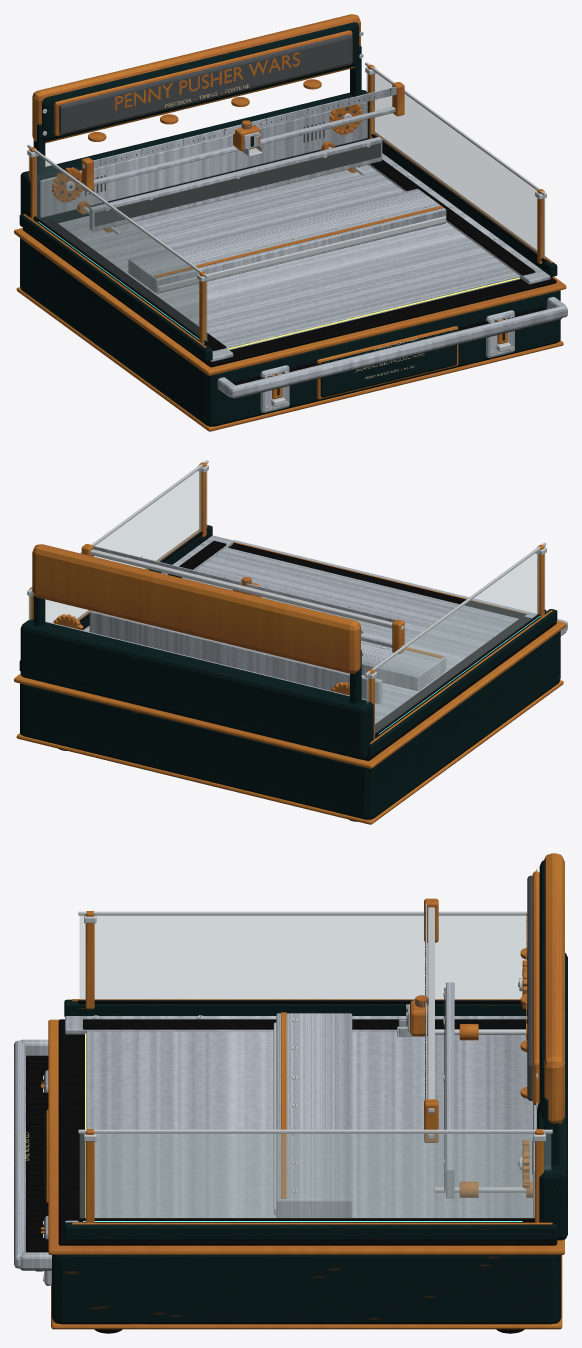
File: cabinet.glb
3 views of the same model, one above another, from view 1: azimuth 30°, elevation 25°; view 2: azimuth 150°, elevation 25°; view 3: azimuth 270°, elevation 25° (orthographic). The views are drawn at different scales.
Visible parts, largest first — view 1: Cabinet_steel_brushed, Cabinet_enamel_petrol, Cabinet_glass_enclosure, Cabinet_brass_aged, Cabinet_steel_gunmetal, Cabinet_rubber_black, Pusher_steel_brushed, Cabinet_steel_chrome, Pusher_steel_chrome, Pusher_brass_aged, GearLeft_brass_aged, Cabinet_led_amber (+1 smaller); view 2: Cabinet_enamel_petrol, Cabinet_brass_aged, Cabinet_steel_brushed, Cabinet_glass_enclosure, Cabinet_rubber_black, Cabinet_steel_chrome, Pusher_steel_brushed; view 3: Cabinet_glass_enclosure, Cabinet_steel_brushed, Cabinet_enamel_petrol, Cabinet_brass_aged, Cabinet_rubber_black, Pusher_steel_brushed, Cabinet_steel_chrome, Cabinet_steel_gunmetal, Pusher_brass_aged, Pusher_steel_chrome, Dropper_brass_aged.
Boxes of the visible parts, x1,y1,x2,y2 form: Cabinet_steel_brushed: (40,86,567,412); Cabinet_enamel_petrol: (19,22,560,426); Cabinet_glass_enclosure: (35,66,544,341); Cabinet_brass_aged: (14,14,566,431); Cabinet_steel_gunmetal: (44,33,561,409); Cabinet_rubber_black: (22,134,556,385); Pusher_steel_brushed: (128,188,446,293); Cabinet_steel_chrome: (27,31,546,410); Pusher_steel_chrome: (157,205,446,291); Pusher_brass_aged: (154,205,443,277); GearLeft_brass_aged: (52,167,82,202); Cabinet_led_amber: (228,277,519,349); Cabinet_enamel_petrol: (19,525,560,819); Cabinet_brass_aged: (14,462,566,824); Cabinet_steel_brushed: (45,535,567,723); Cabinet_glass_enclosure: (29,464,539,733); Cabinet_rubber_black: (58,527,556,821); Cabinet_steel_chrome: (27,460,546,679); Pusher_steel_brushed: (361,640,446,690); Cabinet_glass_enclosure: (80,916,550,1218); Cabinet_steel_brushed: (14,903,536,1285); Cabinet_enamel_petrol: (43,860,567,1324); Cabinet_brass_aged: (40,853,564,1329); Cabinet_rubber_black: (26,1000,557,1333); Pusher_steel_brushed: (276,1013,352,1217); Cabinet_steel_chrome: (36,869,552,1281); Cabinet_steel_gunmetal: (20,875,532,1270); Pusher_brass_aged: (281,1012,286,1198); Pusher_steel_chrome: (273,1018,298,1215); Dropper_brass_aged: (410,995,427,1035).
Bounding box in the file's own units: 8.65 × 4.86 × 8.75.
Materials: 11 (4 with a texture image).
